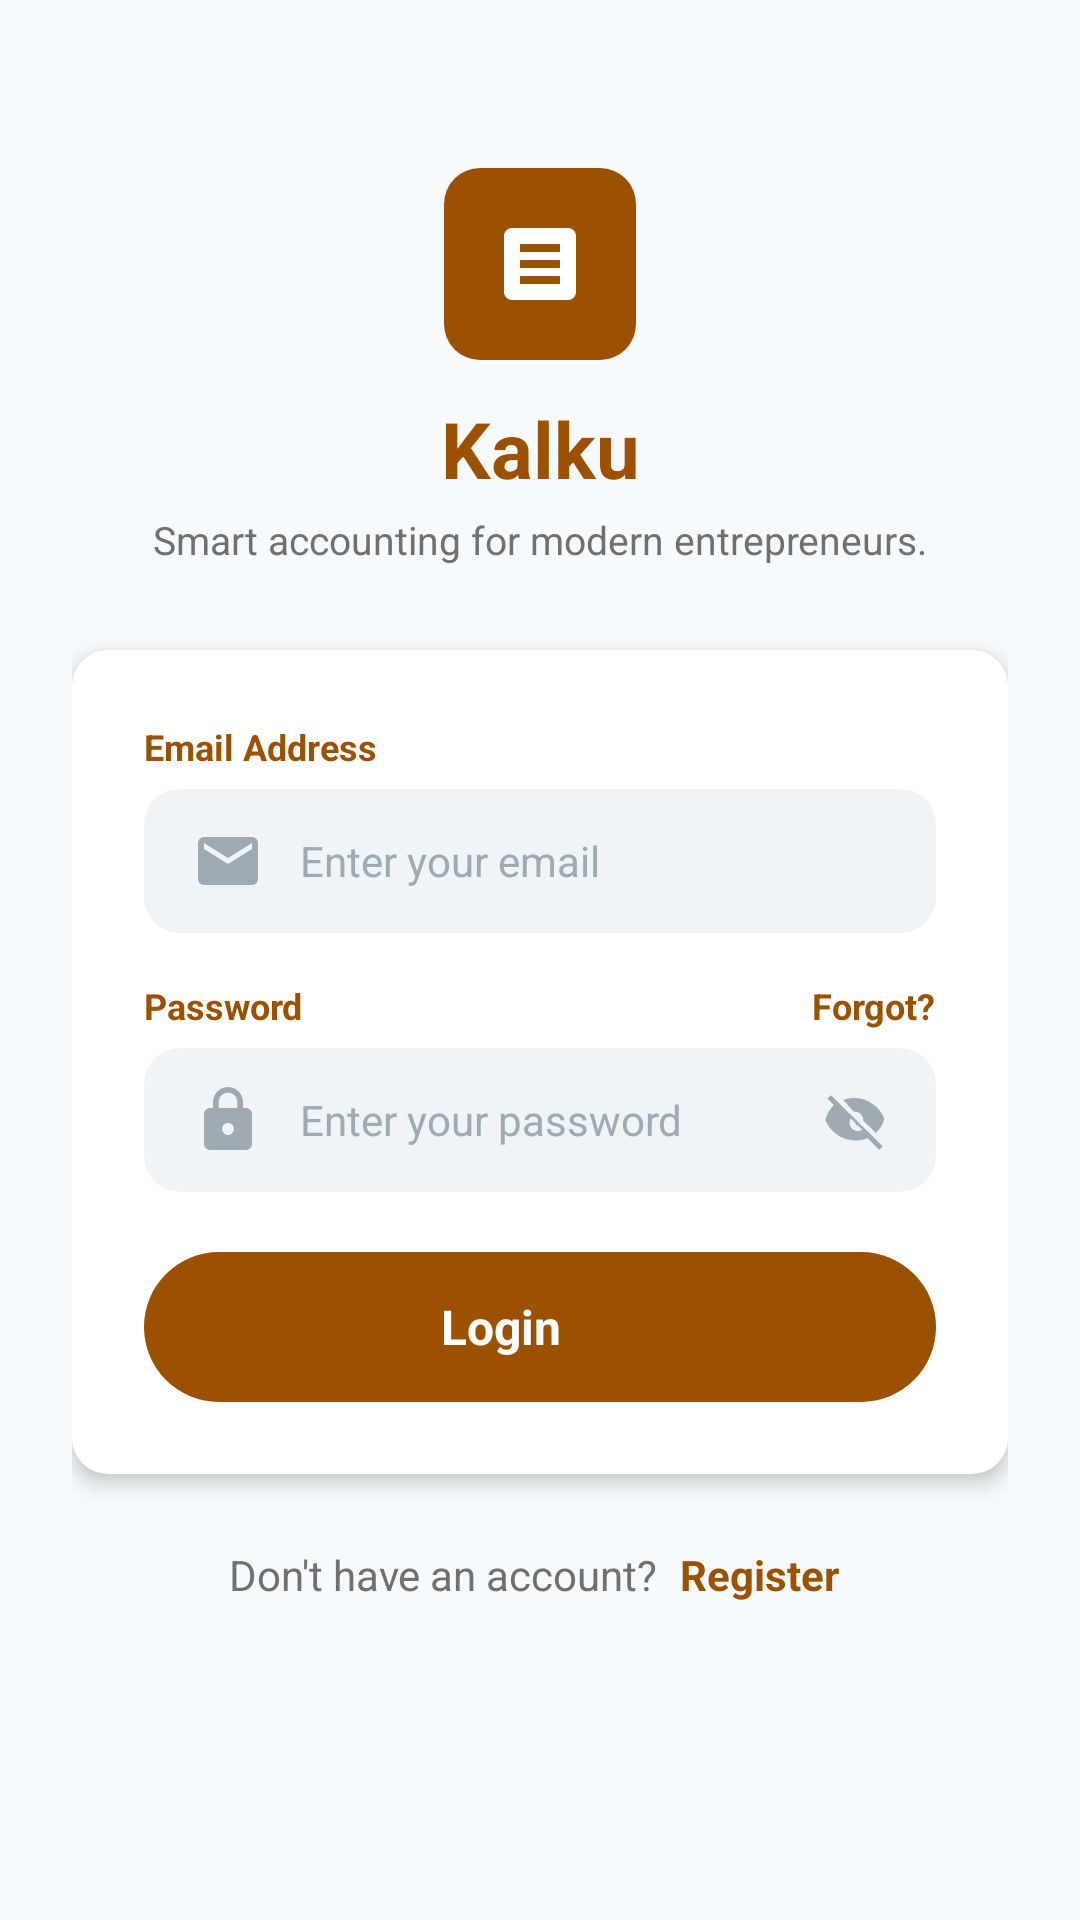

Icon click points for this 1080w x 1920h phone screenshot, format point (x, y):
eye off: point (854, 1122)
